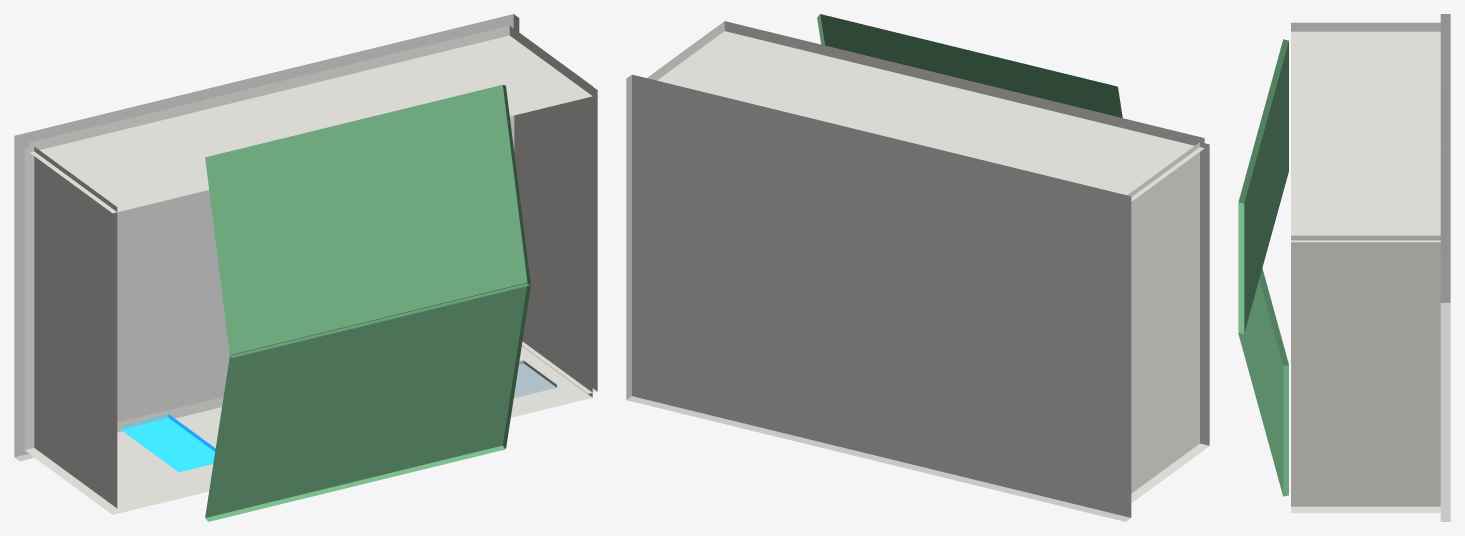
The picture shows the model from 3 angles, left to right: view 1: azimuth 30°, elevation 25°; view 2: azimuth 150°, elevation 25°; view 3: azimuth 270°, elevation 25°; orthographic projection. The views are drawn at different scales.
Parts seen in each view (by area): view 1: RoofPanelA, RoofPanelB, NorthWall, GroundFloor, WestWall, EastWall, SouthWall, EX-DOOR-001, EX-WIN-002; view 2: GroundFloor, NorthWall, WestWall, RoofPanelA; view 3: EastWall, NorthWall, RoofPanelA, RoofPanelB, GroundFloor, SouthWall.
Part boxes in pixels (box(x1,y1,x2,y2)): RoofPanelA: box(205, 84, 530, 357); RoofPanelB: box(205, 282, 530, 521); NorthWall: box(29, 25, 592, 213); GroundFloor: box(14, 14, 519, 461); WestWall: box(24, 146, 117, 510); EastWall: box(505, 30, 597, 393); SouthWall: box(29, 337, 592, 514); EX-DOOR-001: box(120, 414, 215, 472); EX-WIN-002: box(514, 360, 556, 398); GroundFloor: box(626, 74, 1131, 521); NorthWall: box(647, 21, 1204, 201); WestWall: box(1127, 142, 1209, 502); RoofPanelA: box(817, 14, 1122, 117); EastWall: box(1291, 235, 1440, 510); NorthWall: box(1291, 22, 1440, 242); RoofPanelA: box(1238, 39, 1288, 333); RoofPanelB: box(1238, 268, 1288, 496); GroundFloor: box(1440, 14, 1450, 521); SouthWall: box(1291, 511, 1440, 513).
Size of the model in its own units: 10.4 by 7.24 by 4.26.
